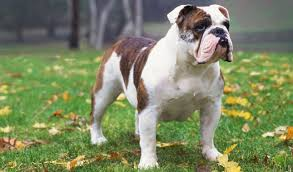Bulldog: (71, 1, 254, 168)
